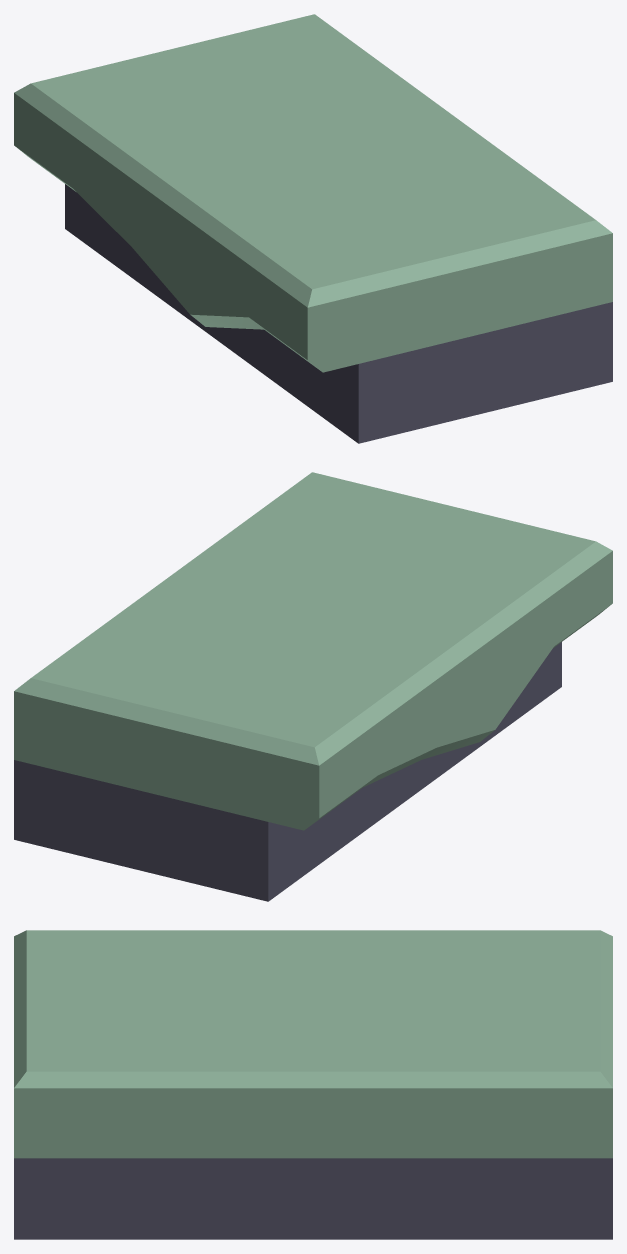
Rendered from leftTile1.fbx.
The picture shows the model from 3 angles, top to bottom: view 1: azimuth 30°, elevation 25°; view 2: azimuth 150°, elevation 25°; view 3: azimuth 270°, elevation 25°; orthographic projection.
Visible parts, largest first — view 1: leftTile1; view 2: leftTile1; view 3: leftTile1.
Part boxes in pixels (bbox=[...]): leftTile1: bbox=[14, 14, 612, 443]; leftTile1: bbox=[14, 472, 612, 901]; leftTile1: bbox=[14, 930, 612, 1239].
Bounding box in the file's own units: 60 × 30 × 100.
